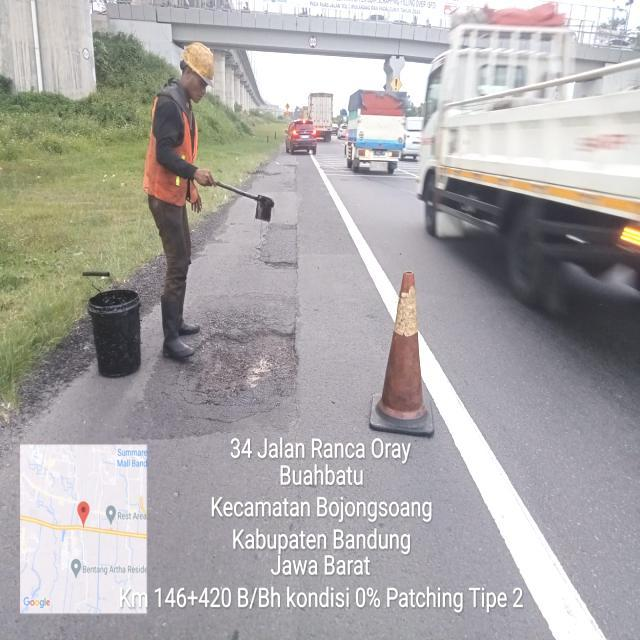Buraco: (168, 325, 302, 409), (262, 259, 300, 271)
